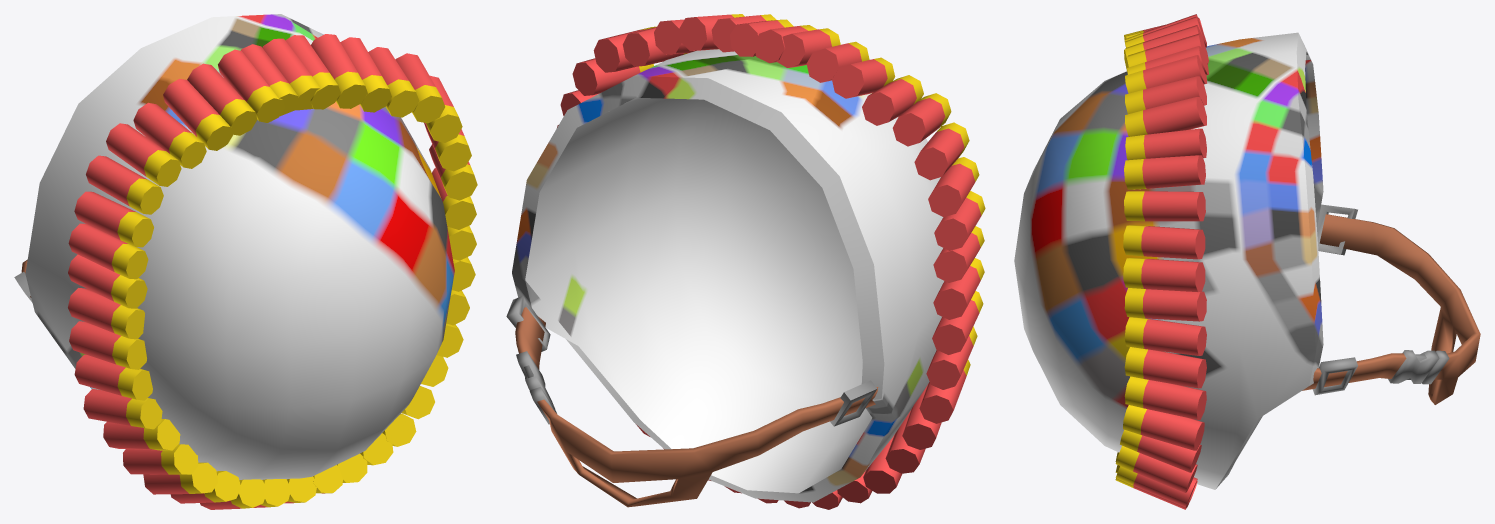
The model's file is belt.002.fbx.
The picture shows the model from 3 angles, left to right: view 1: azimuth 30°, elevation 25°; view 2: azimuth 150°, elevation 25°; view 3: azimuth 270°, elevation 25°; orthographic projection. The views are drawn at different scales.
Visible parts, largest first — view 1: helmet_With_Shotgun_Bullets.001; view 2: helmet_With_Shotgun_Bullets.001; view 3: helmet_With_Shotgun_Bullets.001.
Boxes of the visible parts, bbox=[...] form: helmet_With_Shotgun_Bullets.001: bbox=[14, 14, 477, 509]; helmet_With_Shotgun_Bullets.001: bbox=[506, 14, 985, 509]; helmet_With_Shotgun_Bullets.001: bbox=[1014, 14, 1480, 509].
Size of the model in its own units: 1.07 by 1.19 by 1.12.
